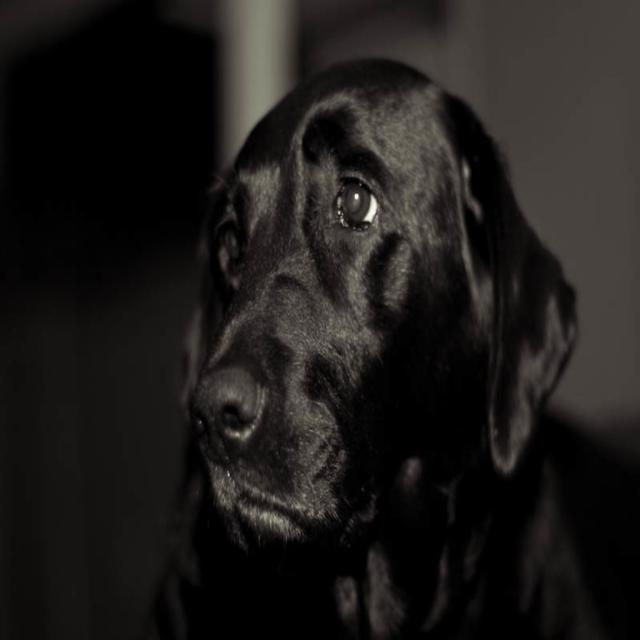Dog: (187, 56, 639, 638)
